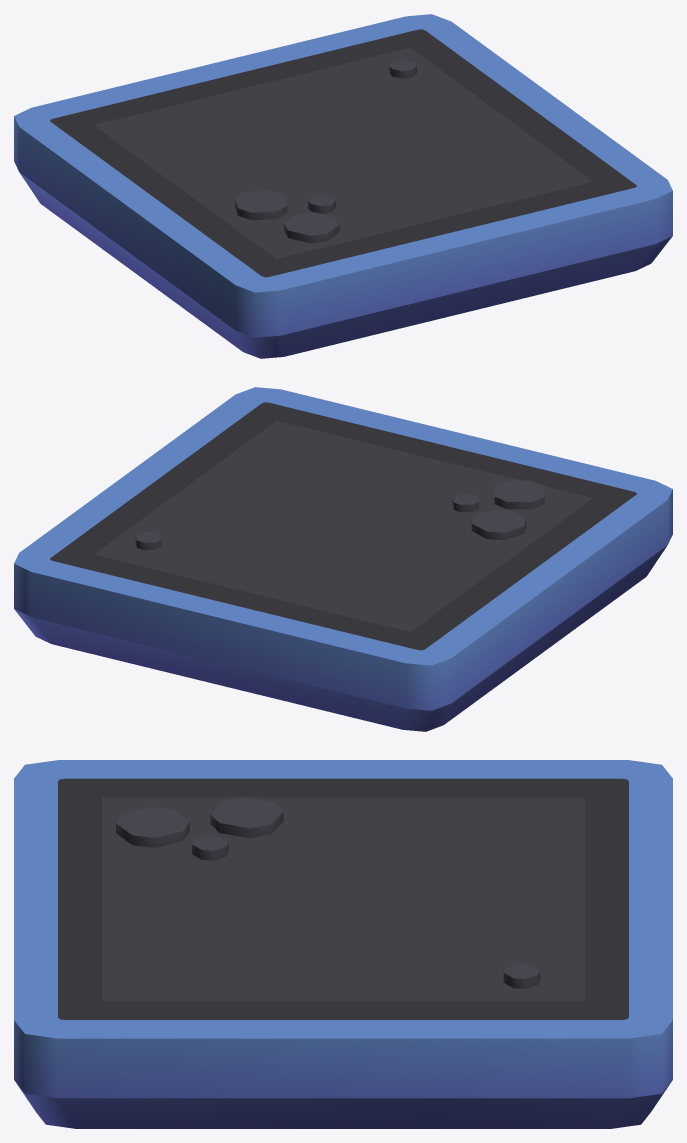
File: stone.glb
The picture shows the model from 3 angles, top to bottom: view 1: azimuth 30°, elevation 25°; view 2: azimuth 150°, elevation 25°; view 3: azimuth 270°, elevation 25°; orthographic projection. The views are drawn at different scales.
Visible parts, largest first — view 1: platform-medium; view 2: platform-medium; view 3: platform-medium.
Boxes of the visible parts, bbox=[...] form: platform-medium: bbox=[14, 14, 672, 358]; platform-medium: bbox=[14, 387, 672, 731]; platform-medium: bbox=[14, 760, 672, 1128].
Bounding box in the file's own units: 3 × 0.55 × 3.
1 material, 1 textured.
